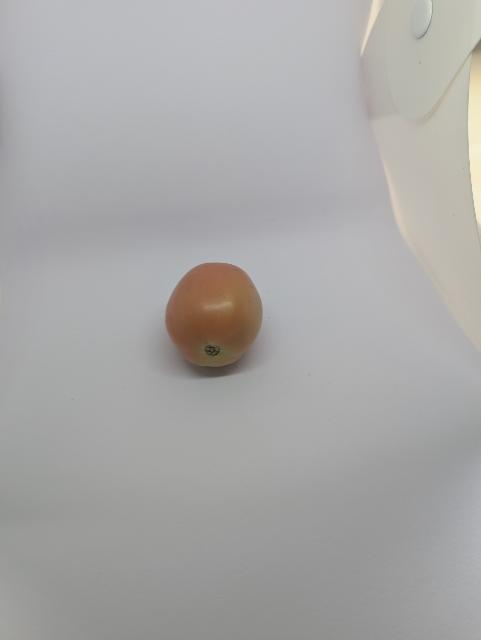turning: (158, 255, 270, 378)
